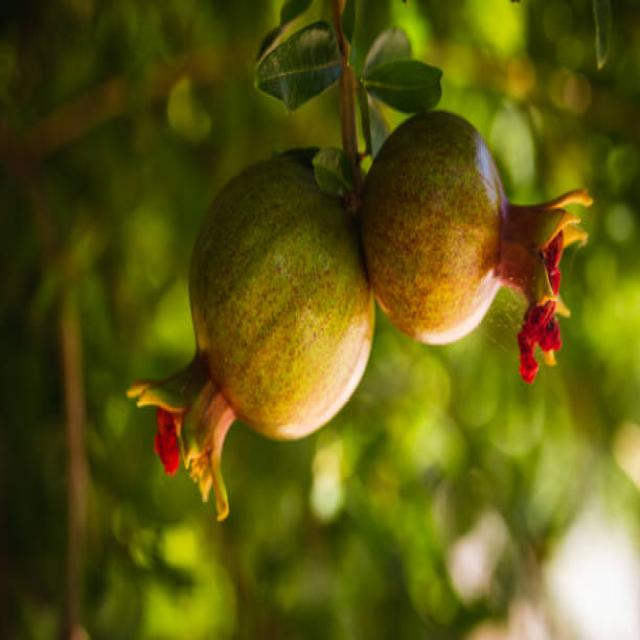Unripe: (128, 145, 374, 517), (358, 105, 590, 378)
